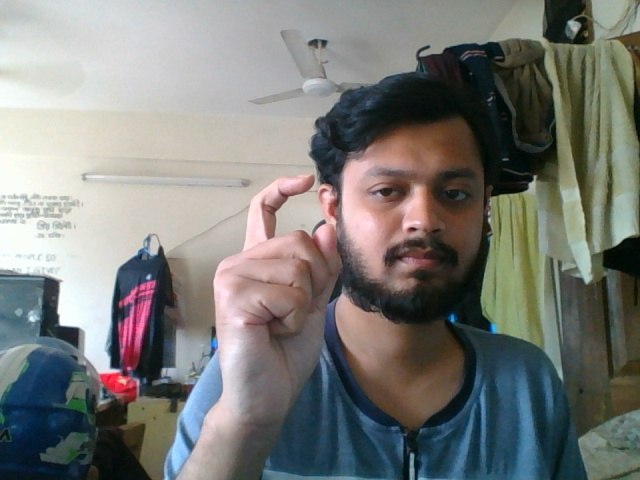e: (205, 167, 348, 457)
